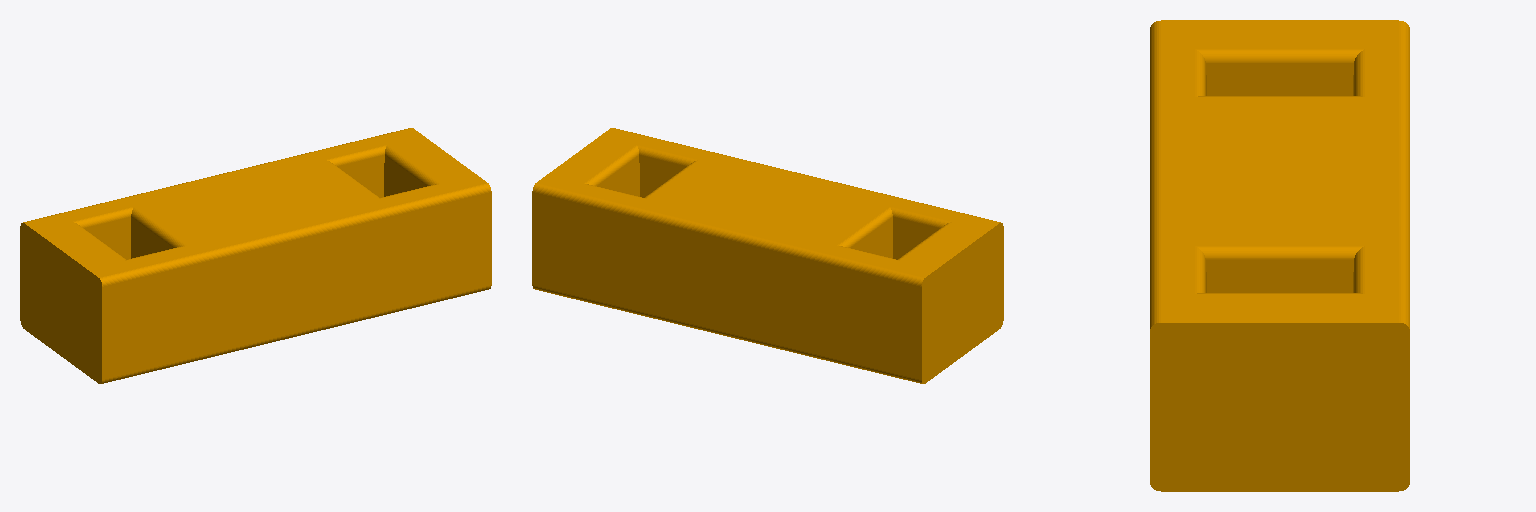
URDF robot description (beam_3x_6_matchedmass):
<?xml version="1.0"?>
<!--
  beam_3x/6 with PLACEHOLDER mass — this part is always a fixture in the
  beam_3x assembly, so its mass is dynamically irrelevant. The 0.0825 kg
  below uses a nominal density (~320 kg/m^3, mid-range between
  the measured /0 (309.2) and /2 (335.2) densities).

  Pattern matches assets/urdf/peg_in_hole/lpeg_matchedmass/lpeg_matchedmass.urdf.

    V_mesh = 257.864 cm^3 (watertight=True)
    CoM    = (-0.000006, 0.000000, -0.000092) m

  Use this URDF instead of beam_3x_6.urdf (which uses <density value=1250/>;
  Isaac silently ignores <density>).
-->
<robot name="beam_3x_6_matchedmass">
  <link name="beam_3x_6_matchedmass">
    <visual>
      <origin xyz="0 0 0" rpy="0 0 0"/>
      <geometry><mesh filename="6_canonical.obj" scale="1 1 1"/></geometry>
    </visual>
    <collision>
      <origin xyz="0 0 0" rpy="0 0 0"/>
      <geometry><mesh filename="6_canonical.obj" scale="1 1 1"/></geometry>
    </collision>
    <inertial>
      <mass value="0.082500"/>
      <origin xyz="-0.000006 0.000000 -0.000092" rpy="0 0 0"/>
      <inertia ixx="3.142538e-05" ixy="5.776515e-11" ixz="5.489874e-10"
               iyy="1.506141e-04" iyz="-3.673673e-13" izz="1.622453e-04"/>
    </inertial>
  </link>
</robot>

--- Facts derived from the render (not from the file) ---
The picture shows the robot from 3 angles, left to right: view 1: azimuth 30°, elevation 25°; view 2: azimuth 150°, elevation 25°; view 3: azimuth 270°, elevation 25°; orthographic projection.
Robot: beam_3x_6_matchedmass — 1 links, 0 joints (none); root link beam_3x_6_matchedmass; default pose: every joint at zero.
Links seen in each view (by area): view 1: beam_3x_6_matchedmass; view 2: beam_3x_6_matchedmass; view 3: beam_3x_6_matchedmass.
Link boxes in pixels (x1,y1,x2,y2): beam_3x_6_matchedmass: (20, 128, 491, 383); beam_3x_6_matchedmass: (532, 128, 1003, 383); beam_3x_6_matchedmass: (1150, 20, 1409, 491).
Bounding box of the posed robot: 0.1462 × 0.0533 × 0.0381 m (x, y, z).
1 mesh visuals loaded from 1 distinct referenced files (1 OBJ).
